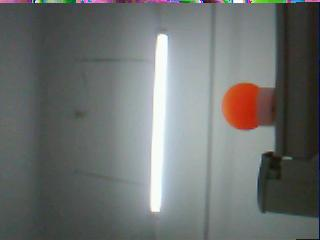oball: (221, 81, 259, 130)
